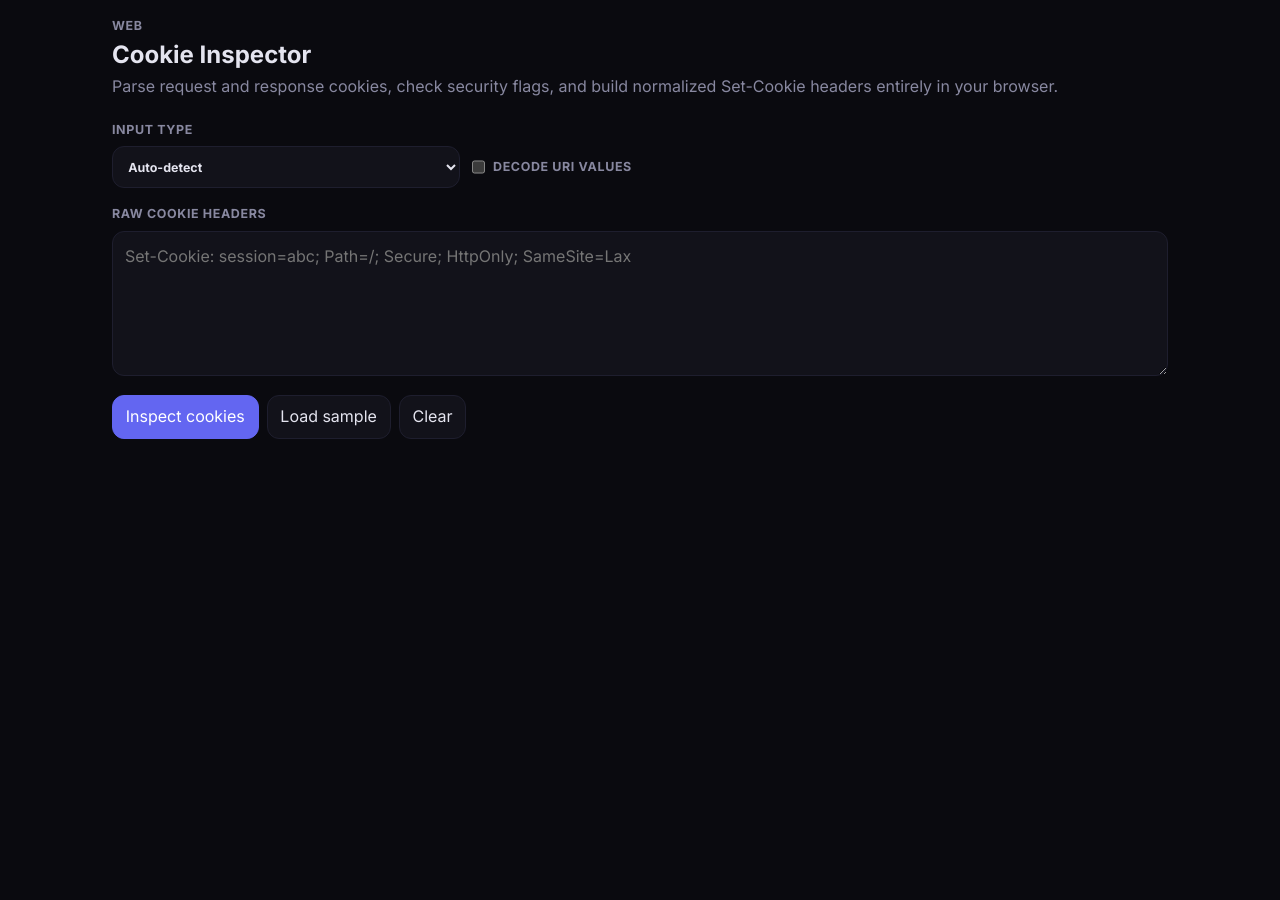
Test: CookieTool › parses request Cookie strings and toggles URI decoding
The image size is (1280, 900).
Step 1. Select "Request Cookie" in the dropdown named "Cookie input type" → x=286, y=167, box [112, 146, 460, 188]
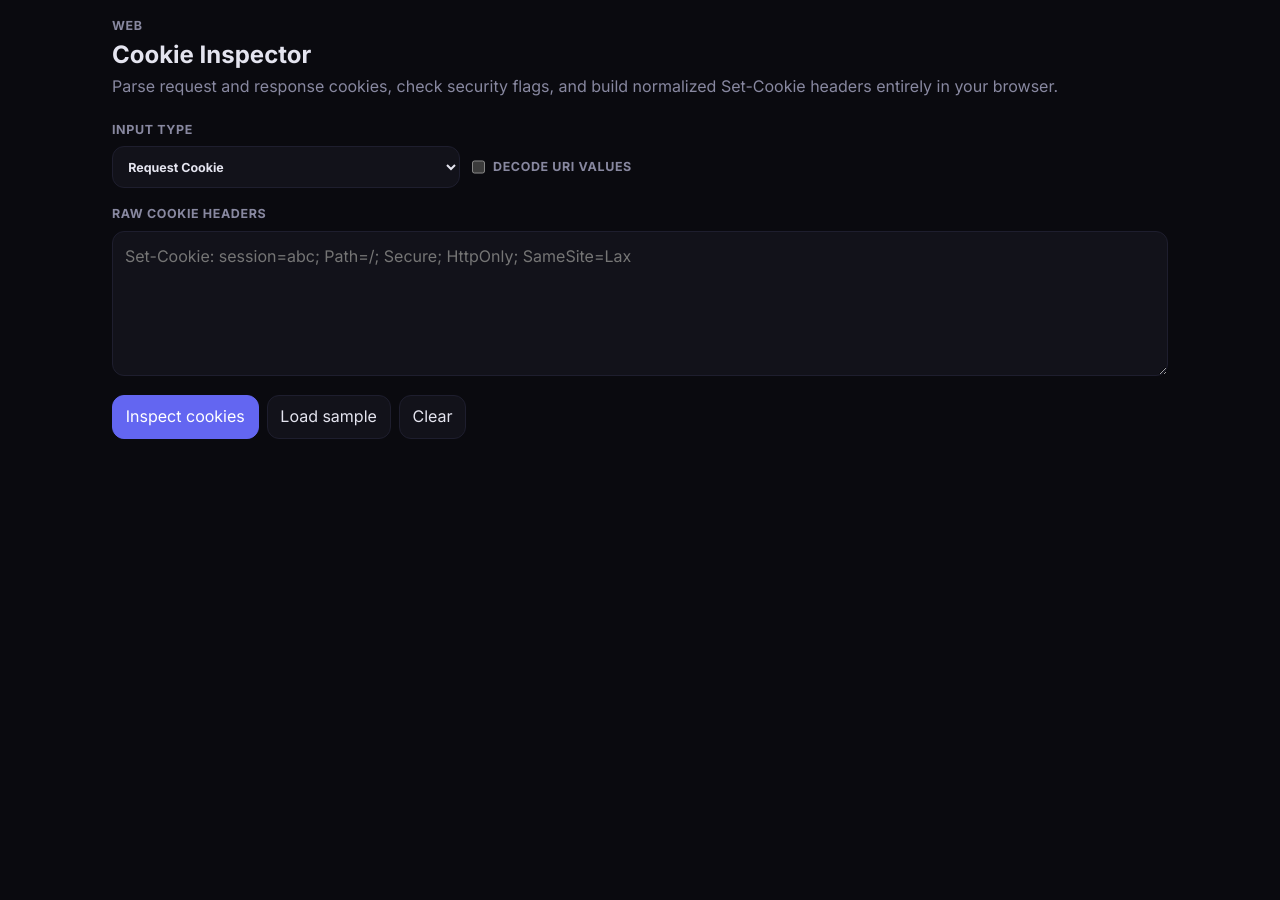
Step 2. Replace the text in the text box named "Raw cookie header input" with "Cookie: greeting=hello%20world; theme=dark" → x=640, y=303, box [112, 231, 1168, 376]
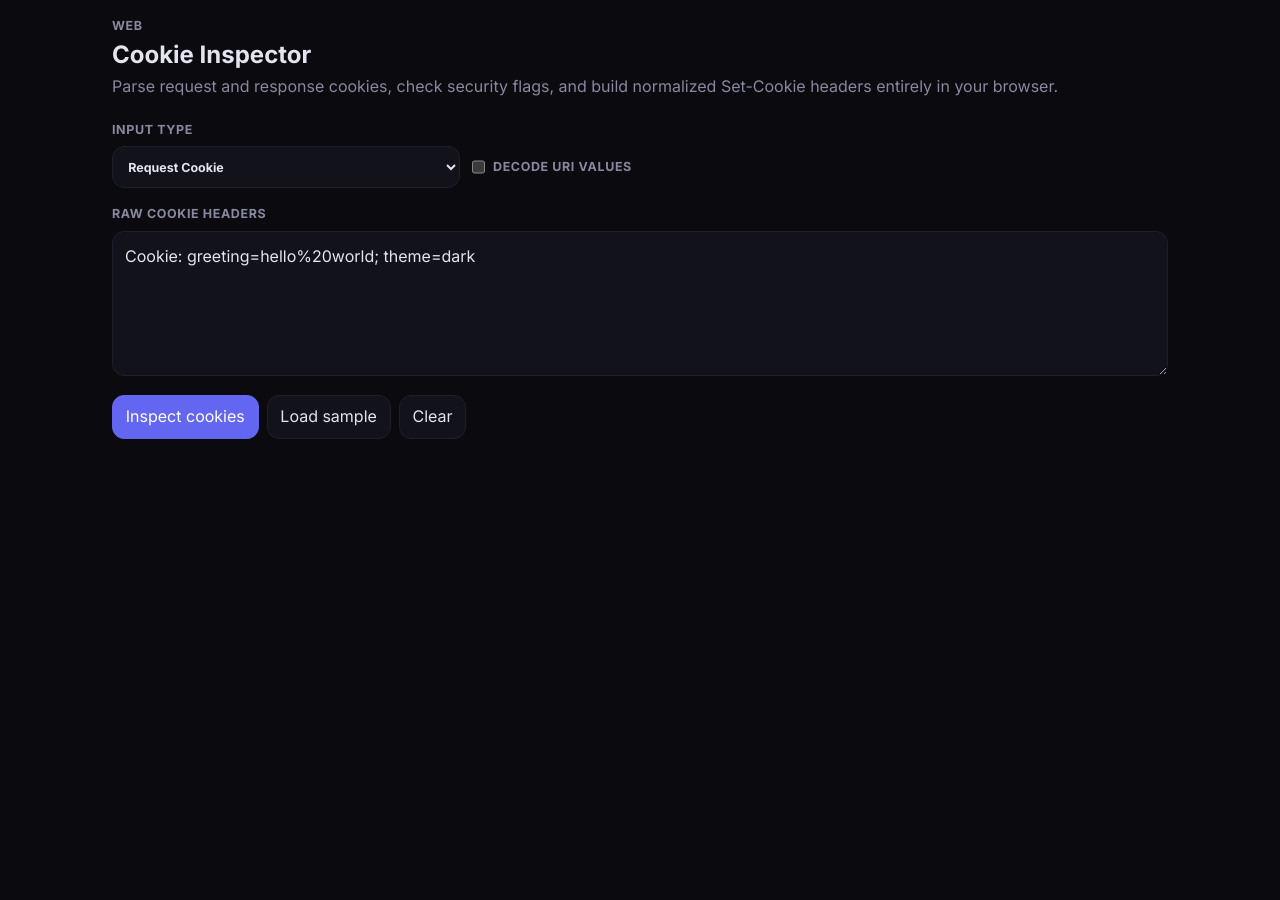
Step 3. Click the button "Inspect cookies" → x=185, y=417, box [112, 395, 258, 439]
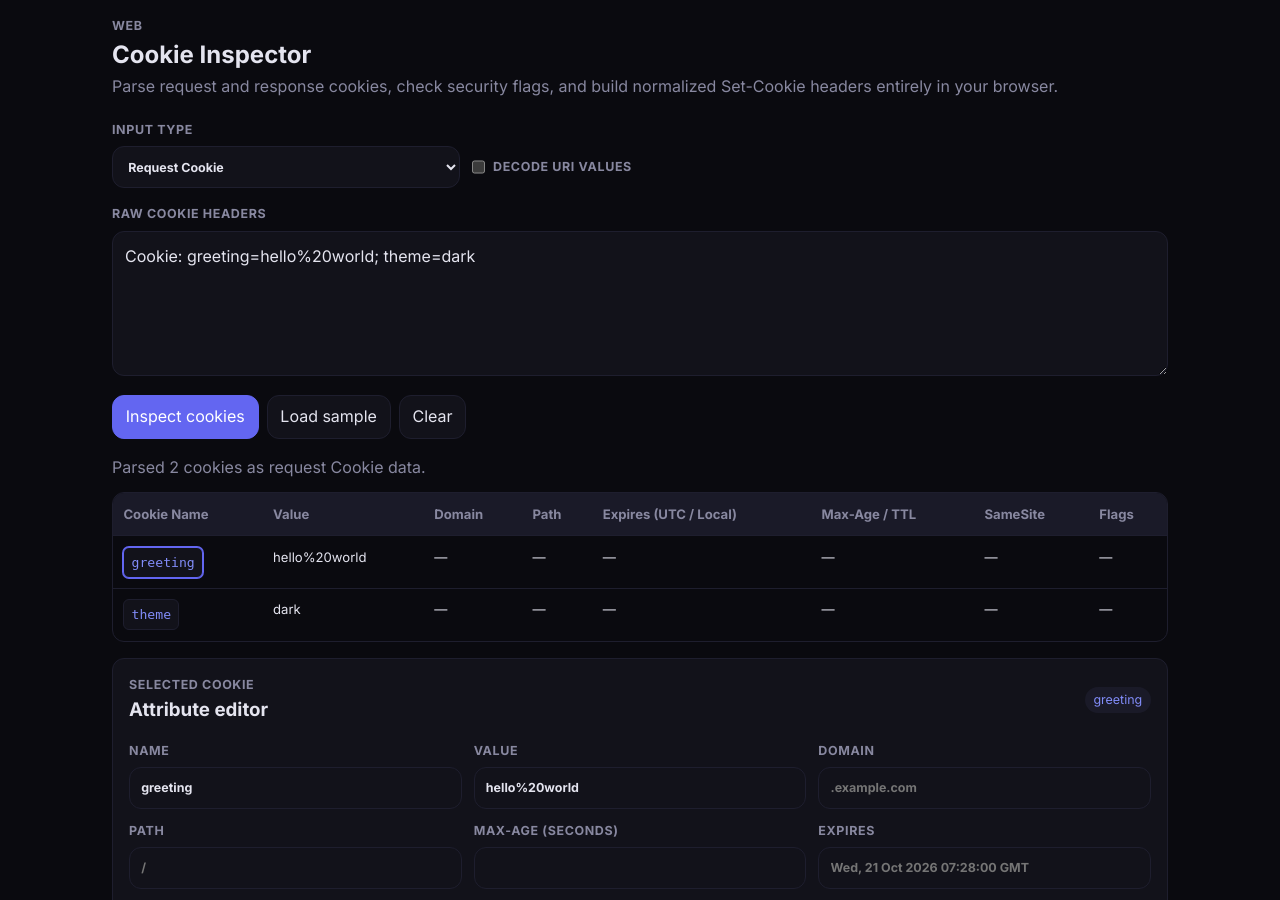
Check: the button with aria-label "Edit cookie greeting" is shown, box [123, 547, 203, 578]
Step 4. Click the checkbox named "Decode URI-encoded cookie values" → x=478, y=167, box [472, 146, 485, 188]
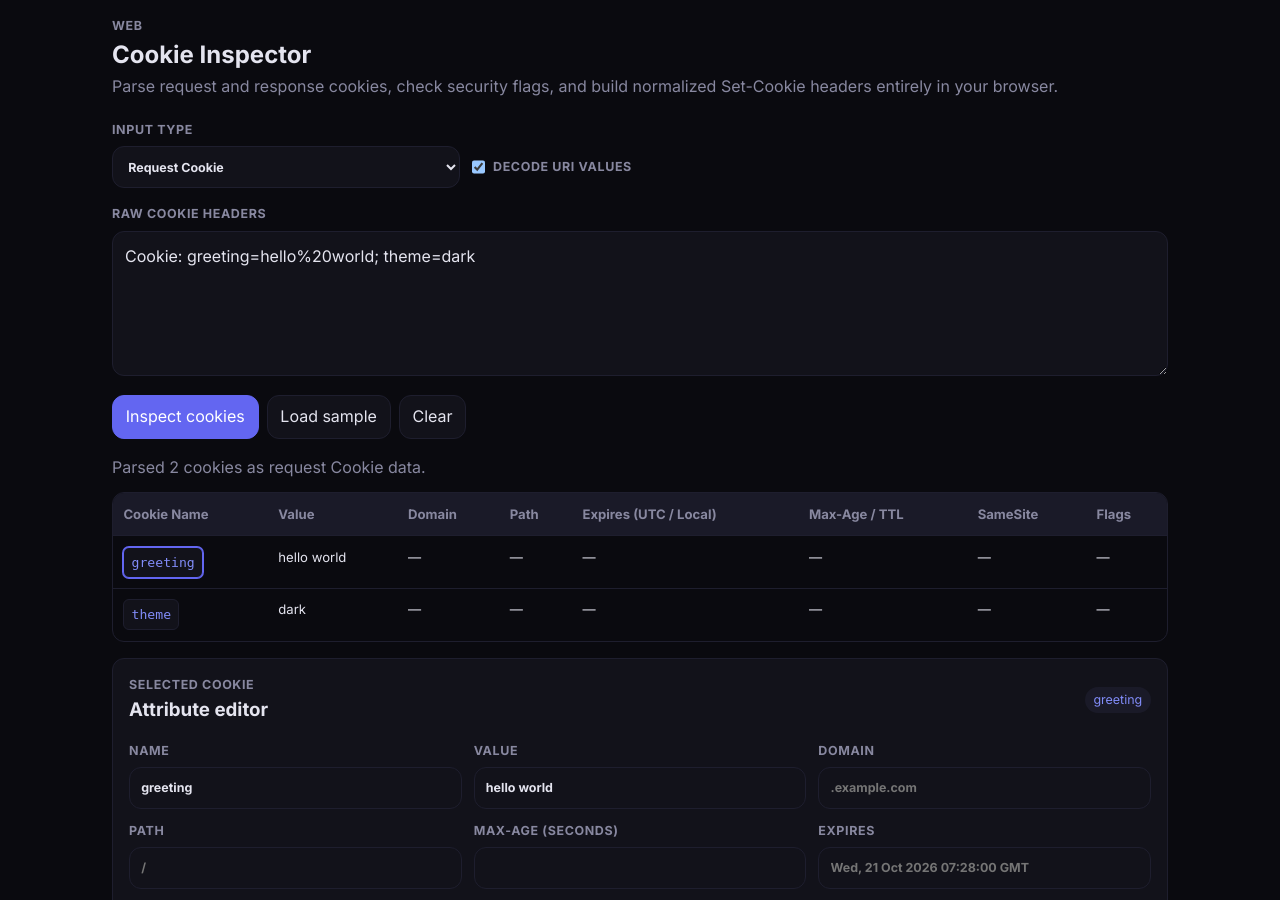
Check: the field named "Cookie value" holds "hello world", box [474, 767, 806, 809]
